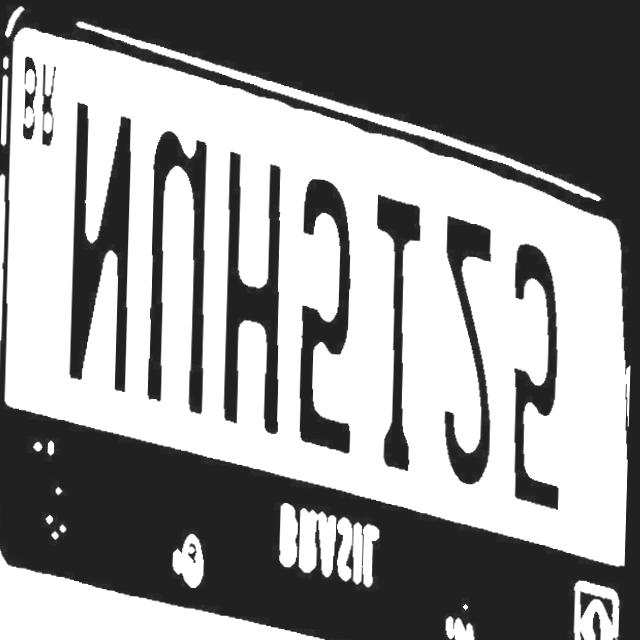2: (432, 198, 514, 495)
5: (293, 166, 371, 464), (509, 231, 580, 511)
h: (214, 141, 295, 440)
i: (366, 180, 437, 478)
n: (64, 78, 147, 398)
u: (139, 109, 221, 422)
